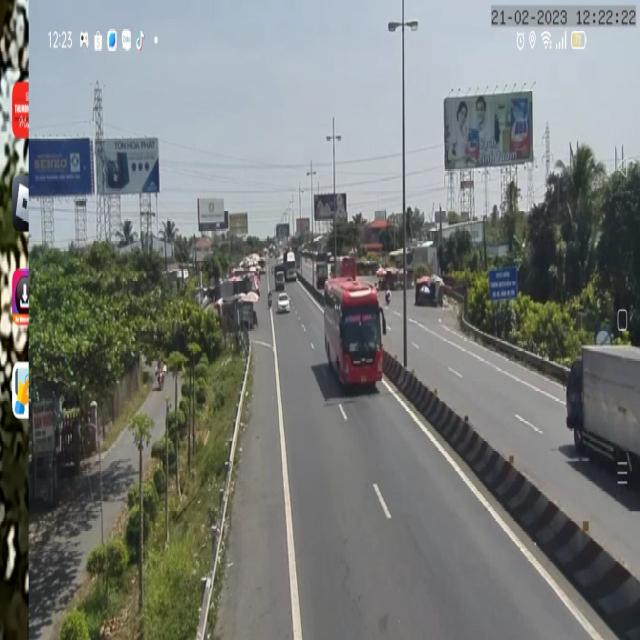bus: (322, 276, 383, 388)
car: (274, 294, 291, 314)
truck: (566, 339, 640, 486), (284, 248, 296, 283), (274, 262, 284, 294)
